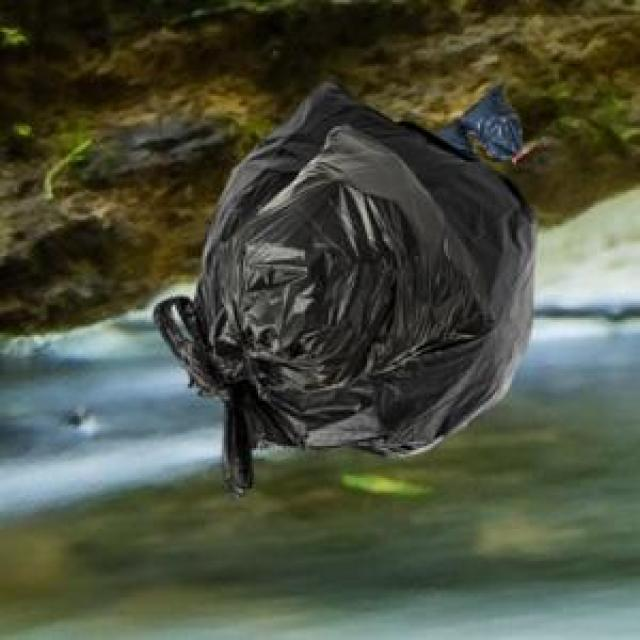Trashbag: (151, 70, 540, 498)
